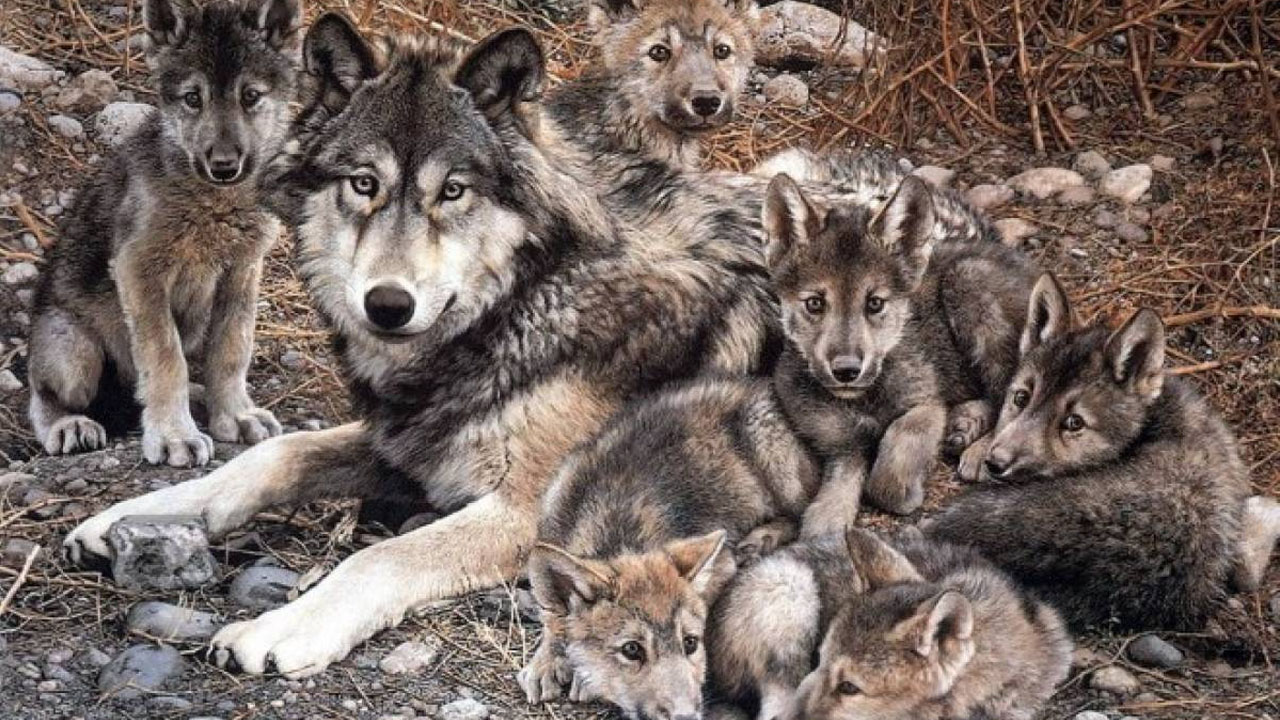Lobo: (281, 23, 740, 545), (16, 9, 295, 470), (997, 276, 1215, 617), (540, 374, 748, 703), (766, 151, 930, 503), (774, 515, 1048, 720), (551, 23, 881, 159)
